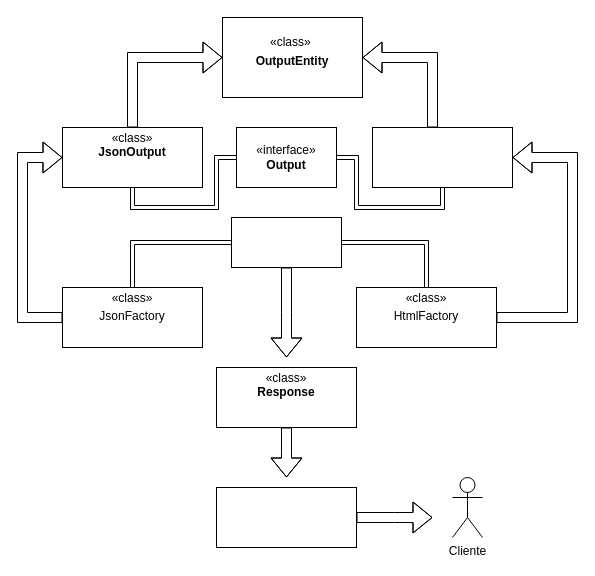
The diagram is 595 pixels wide and 576 high, and some of its shapes have lost their labels. The shapes that lost their labels are listed below. From the top down, each one's box as (x1, y1, x2, y2) in pixels, then its label:
(372, 126, 512, 188): «class» HtmlOutput
(230, 216, 342, 268): «interface» Factory
(216, 486, 356, 548): «class» Main
